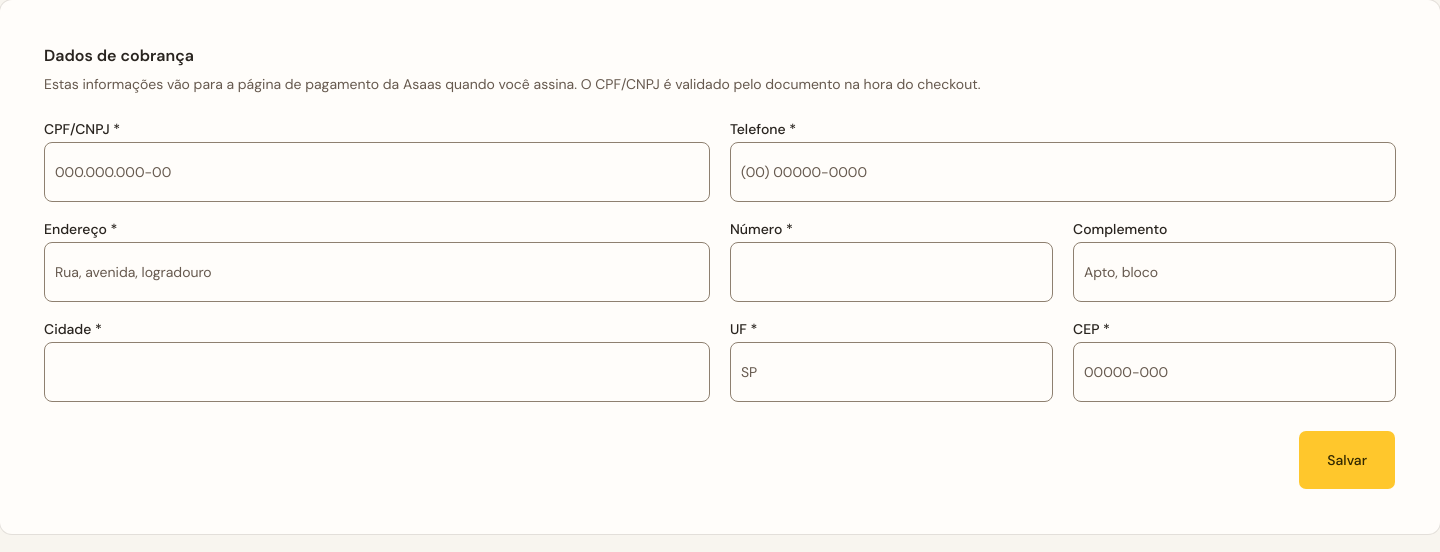
Test: billing CPF/CNPJ field › still formats a CPF
In the field labelled "CPF/CNPJ *": (377, 172) top-left (44, 142), bottom-right (710, 202), type "12345678909"
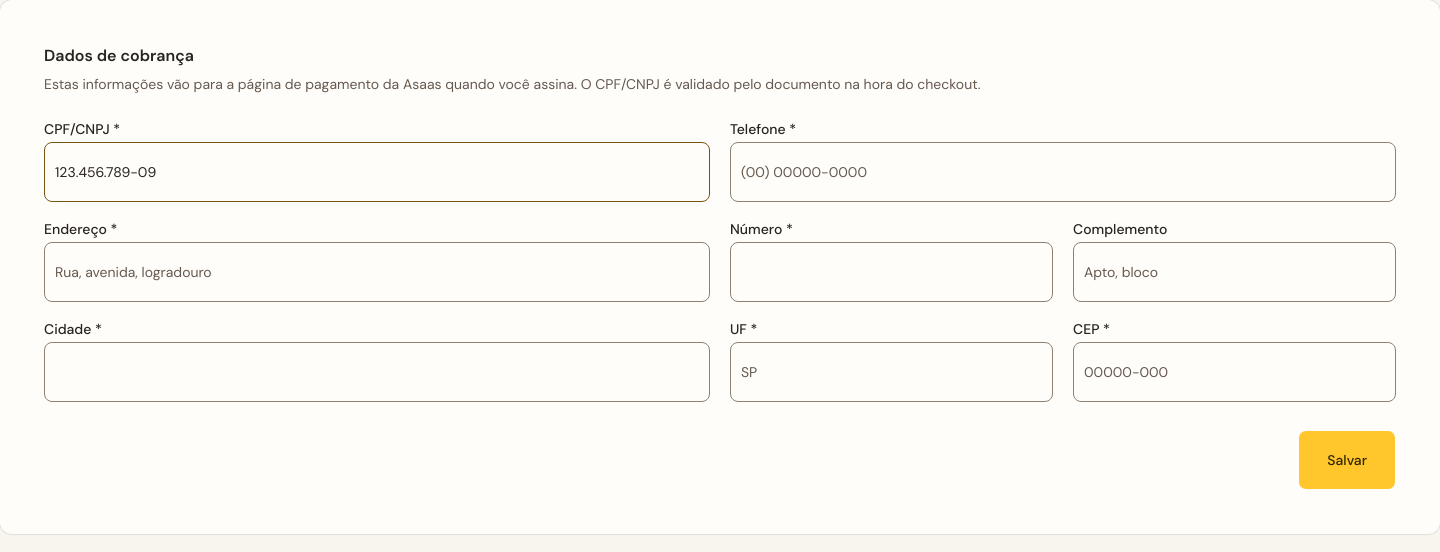
Check: the field labelled "CPF/CNPJ *" holds "123.456.789-09", box top-left (44, 142), bottom-right (710, 202)
